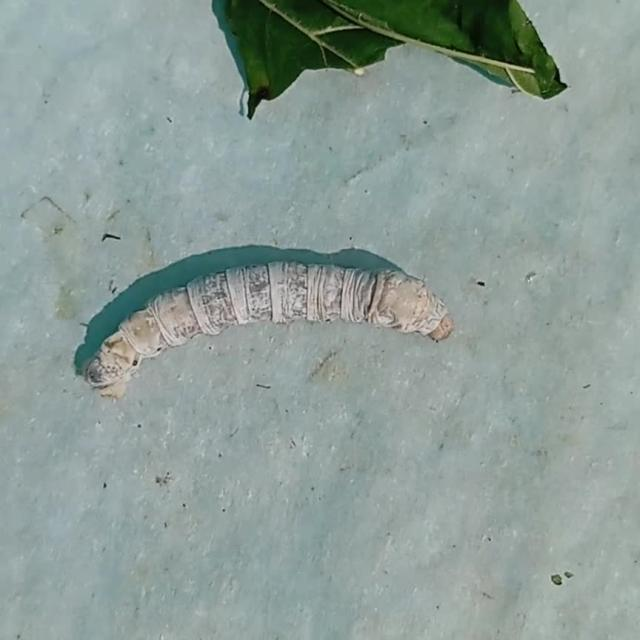Grasserie: (66, 234, 464, 408)
